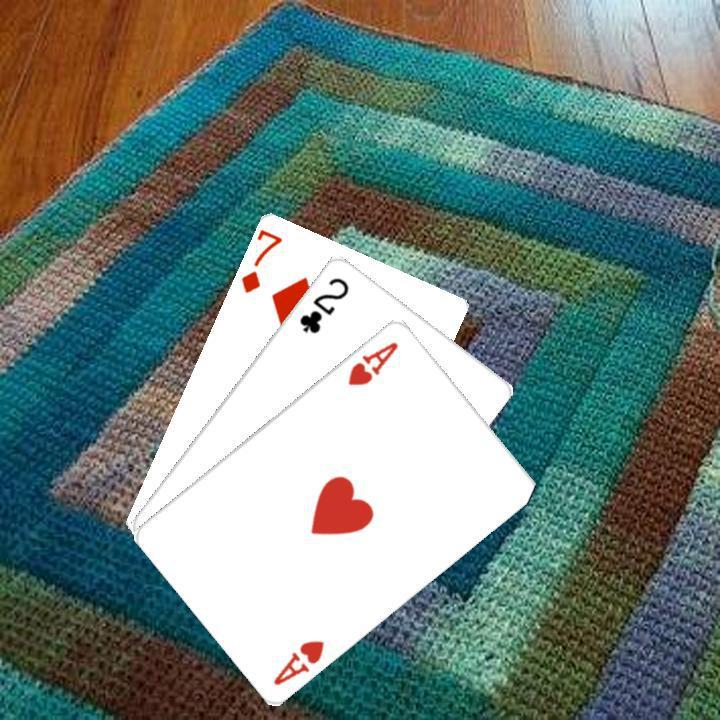2: (294, 272, 351, 335)
7: (236, 225, 285, 295)
A: (343, 336, 401, 388), (268, 635, 326, 687)
